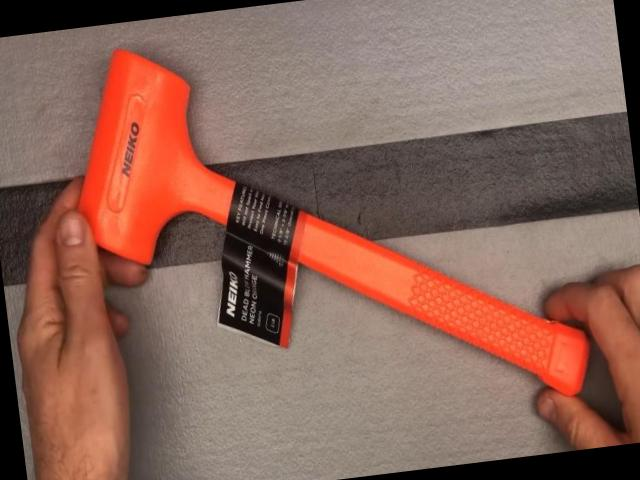hammer: (50, 0, 597, 451)
